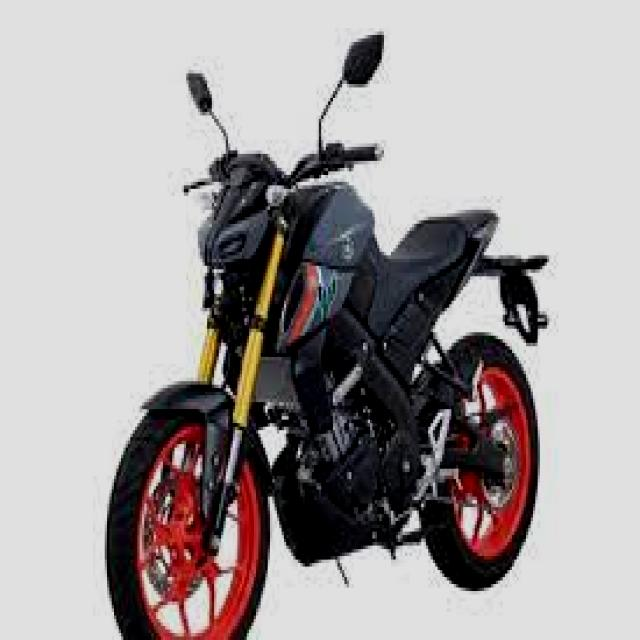MOTORCYCLE: (107, 122, 554, 638)
